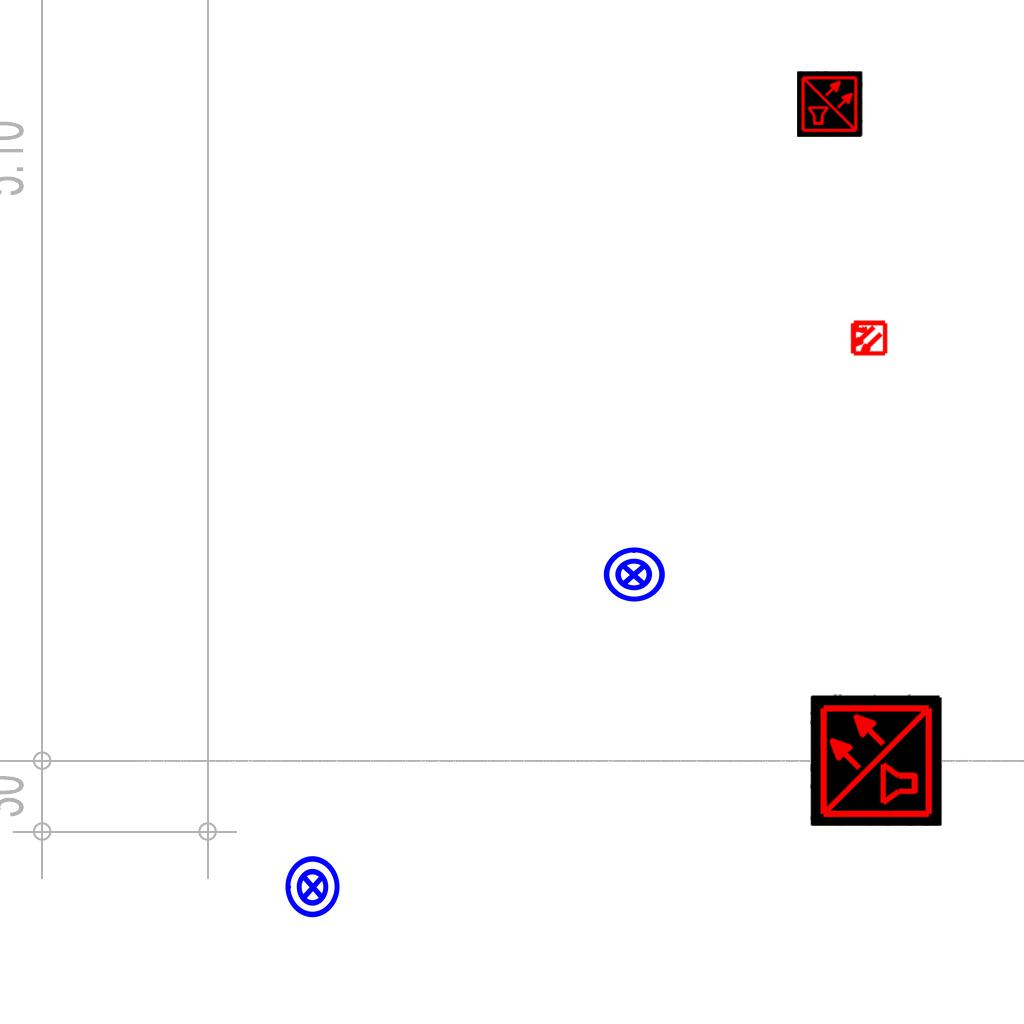OKW_Multisensormelder_(Kombination_optischer_Rauch-Kahlenmonoxid_Waerme-Melder): (810, 694, 942, 826), (797, 71, 863, 137)
OT_Multisensormelder_(Kombination_RMO_WMD): (840, 310, 896, 366)
Taster_beleuchtet: (280, 854, 346, 920), (601, 542, 667, 608)
